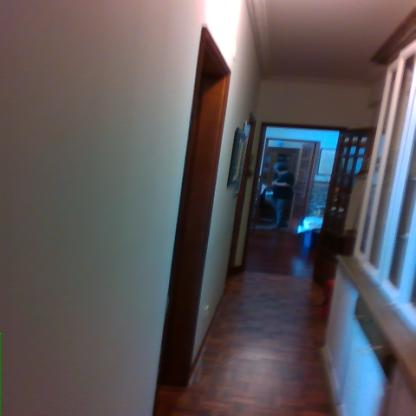open: (250, 118, 368, 258)
